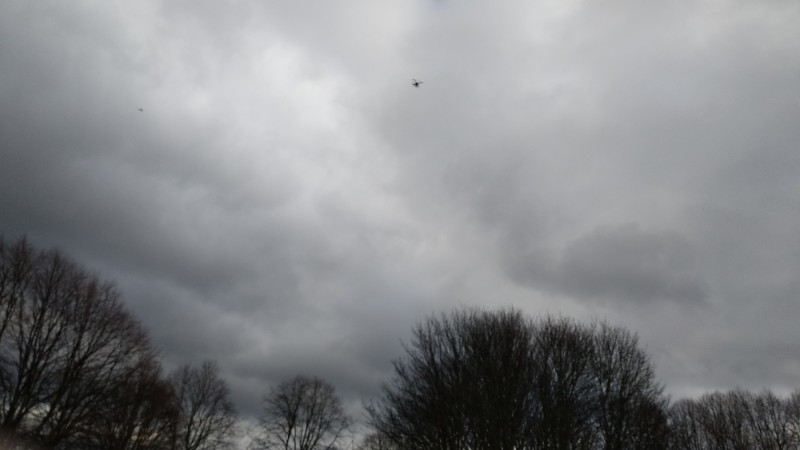drone: (411, 77, 424, 88)
